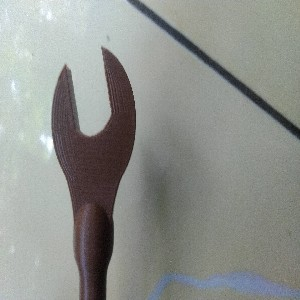spanner: (51, 44, 137, 300)
